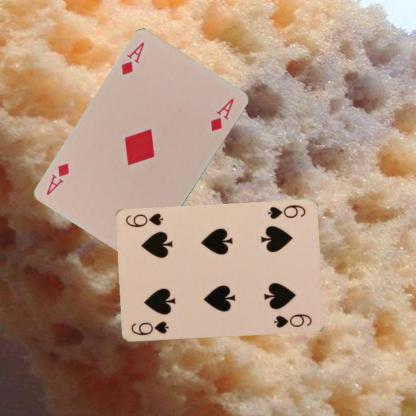6s: (128, 319, 170, 337), (264, 202, 306, 220)
Ad: (118, 40, 146, 77)
